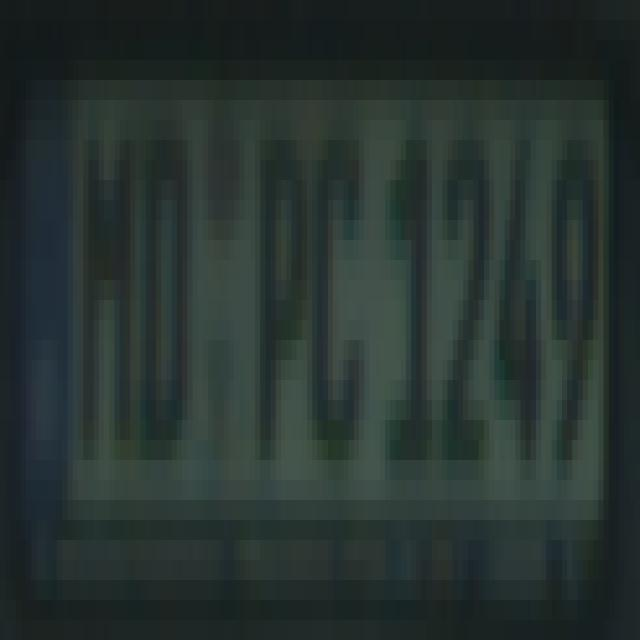Autre: (20, 43, 608, 600)
